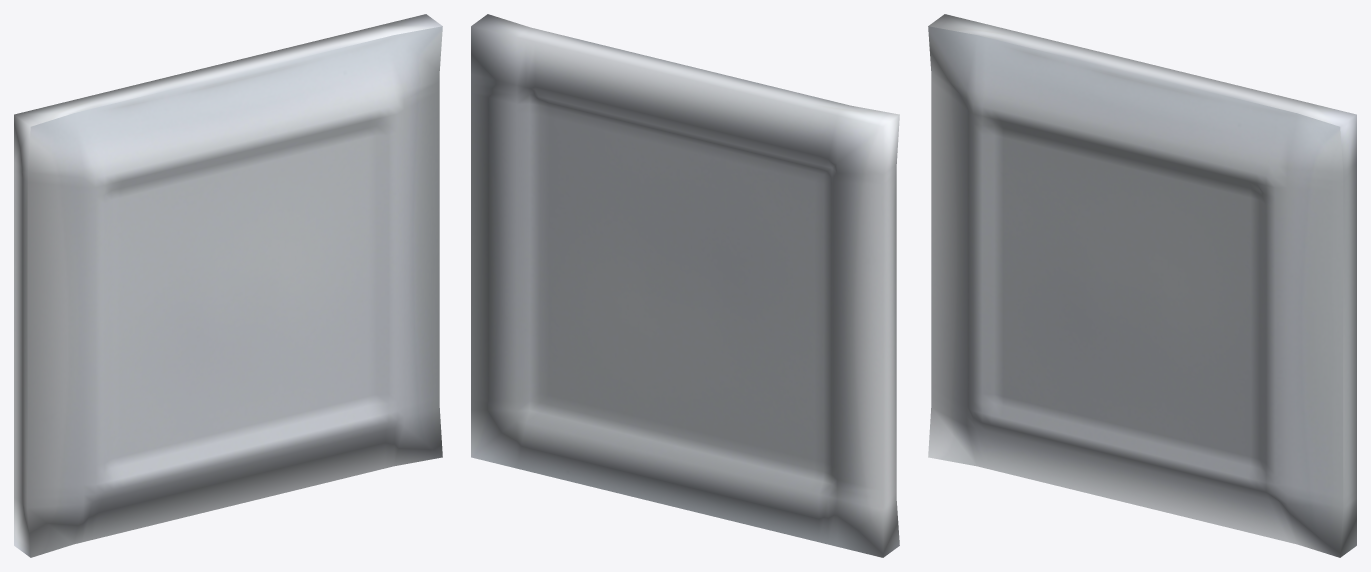
File: plate3.fbx
3 views of the same model, side by side, from view 1: azimuth 30°, elevation 25°; view 2: azimuth 150°, elevation 25°; view 3: azimuth 330°, elevation 25° (orthographic).
Parts seen in each view (by area): view 1: Cube; view 2: Cube; view 3: Cube.
Part boxes in pixels (<box>): Cube: <box>14,14,442,557</box>; Cube: <box>471,14,899,557</box>; Cube: <box>928,14,1356,557</box>.
Size of the model in its own units: 2 by 2 by 0.2239.
1 material, 1 textured.
